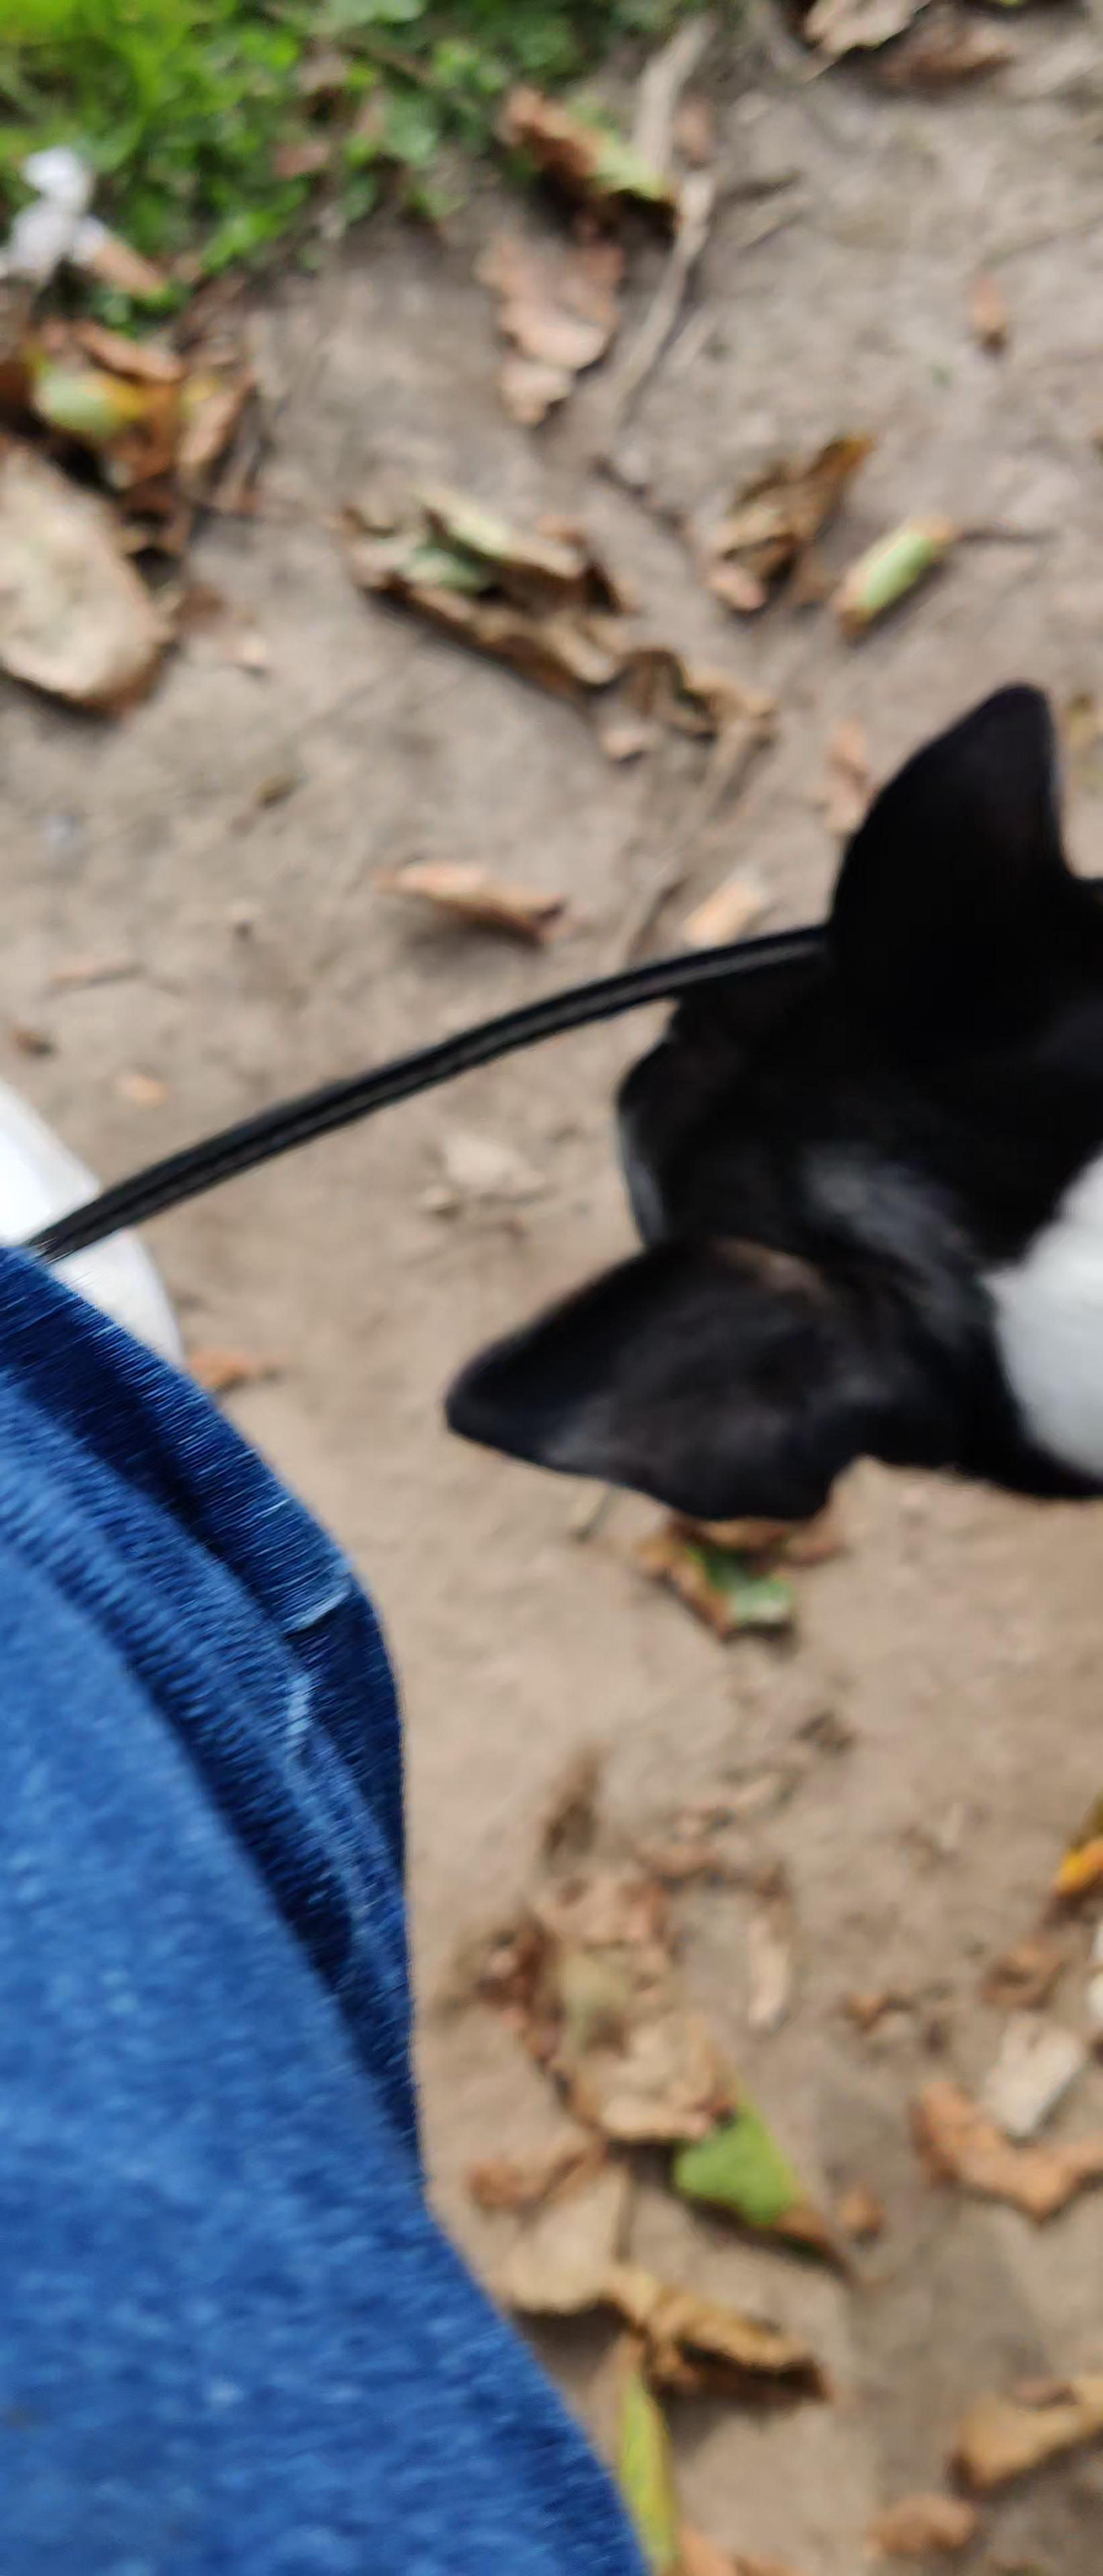Dog: (431, 670, 1103, 1544)
